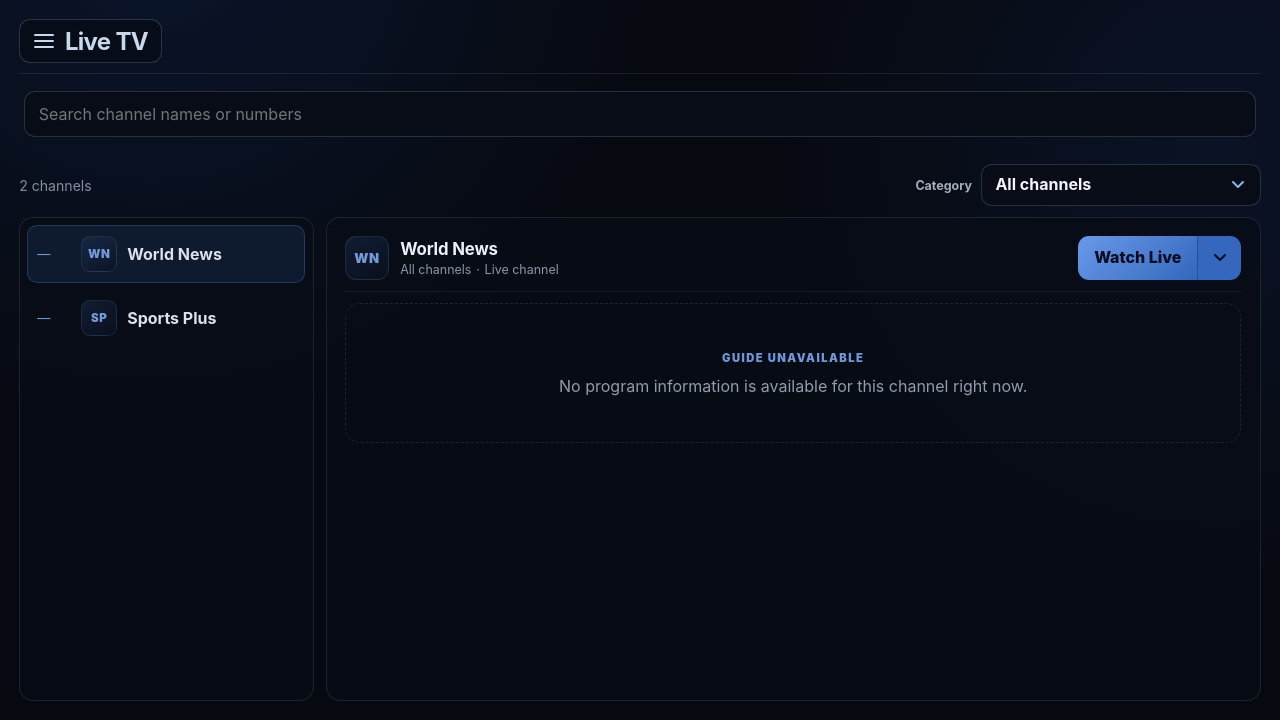
Test: Live TV VLC handoff › ignores a pending handoff after changing unmount
Expected: the button "Watch Live" is shown, [1078,236,1197,280]
Click the button named "Watch options" at [1219, 258], box [1197,236,1241,280]
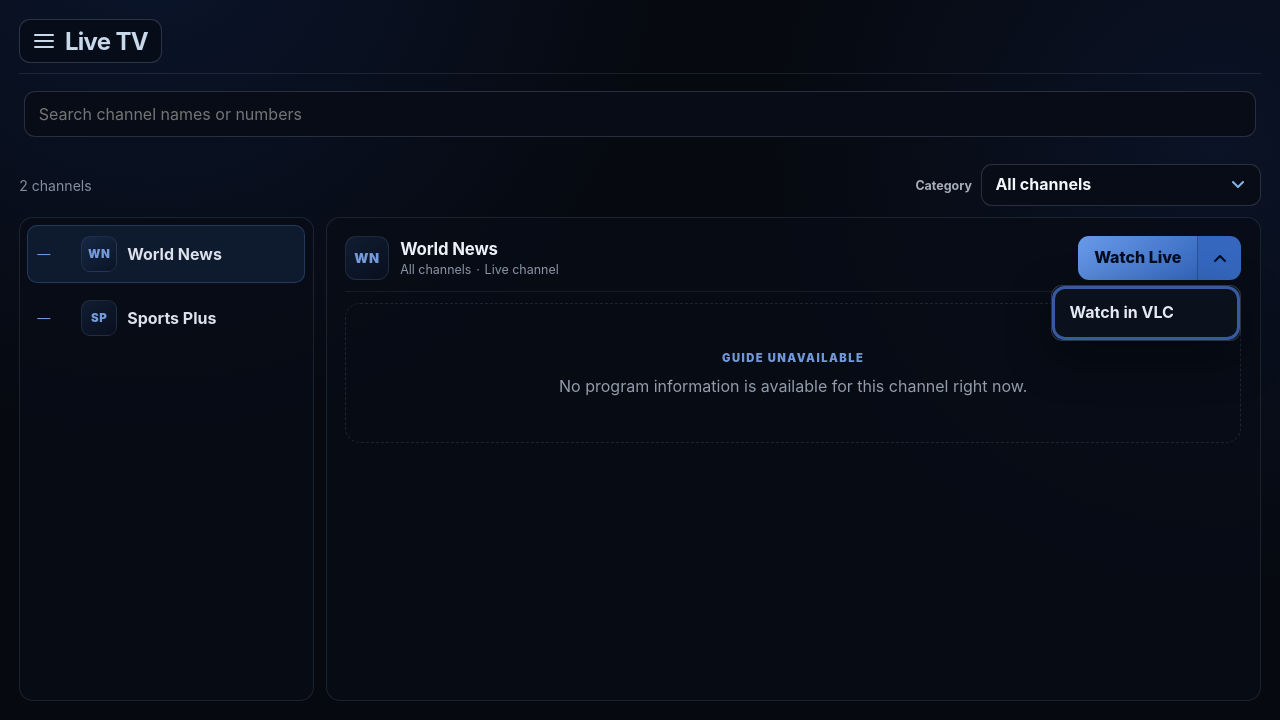
Click the menu item "Watch in VLC" at [1146, 313], box [1057,291,1235,335]
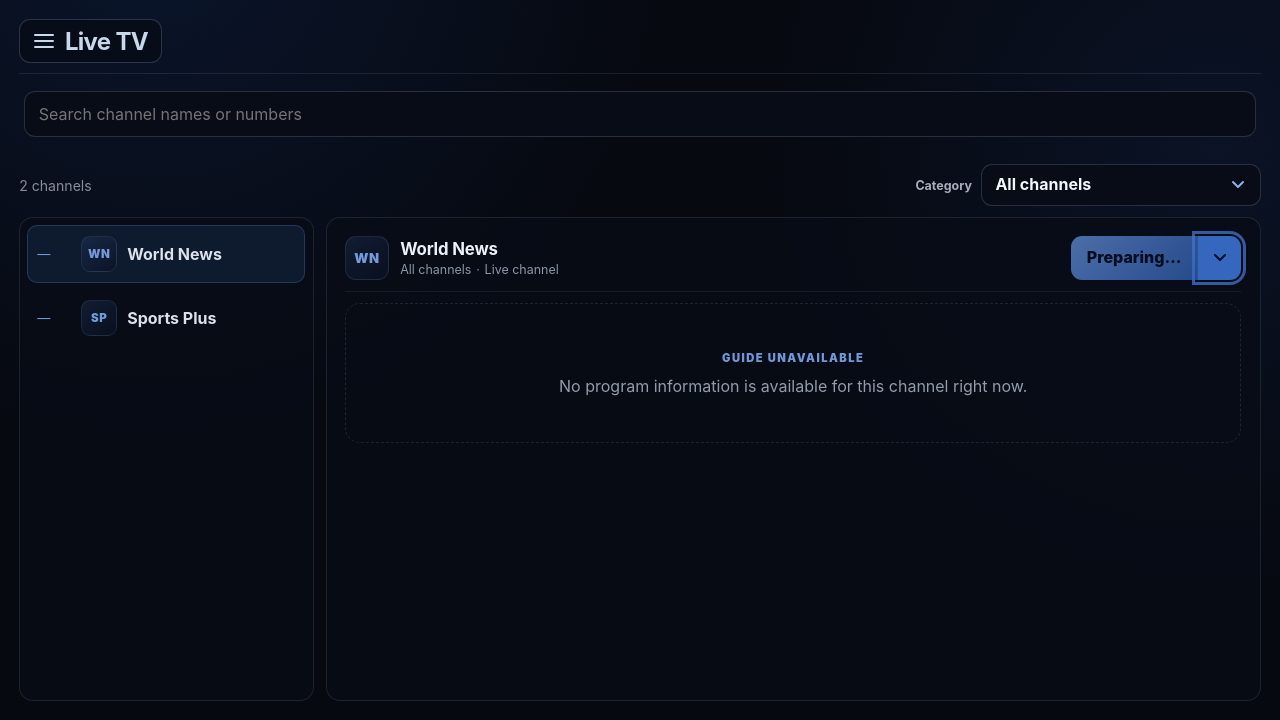
Result: the button "Preparing…" is disabled at [1071,236,1197,280]
